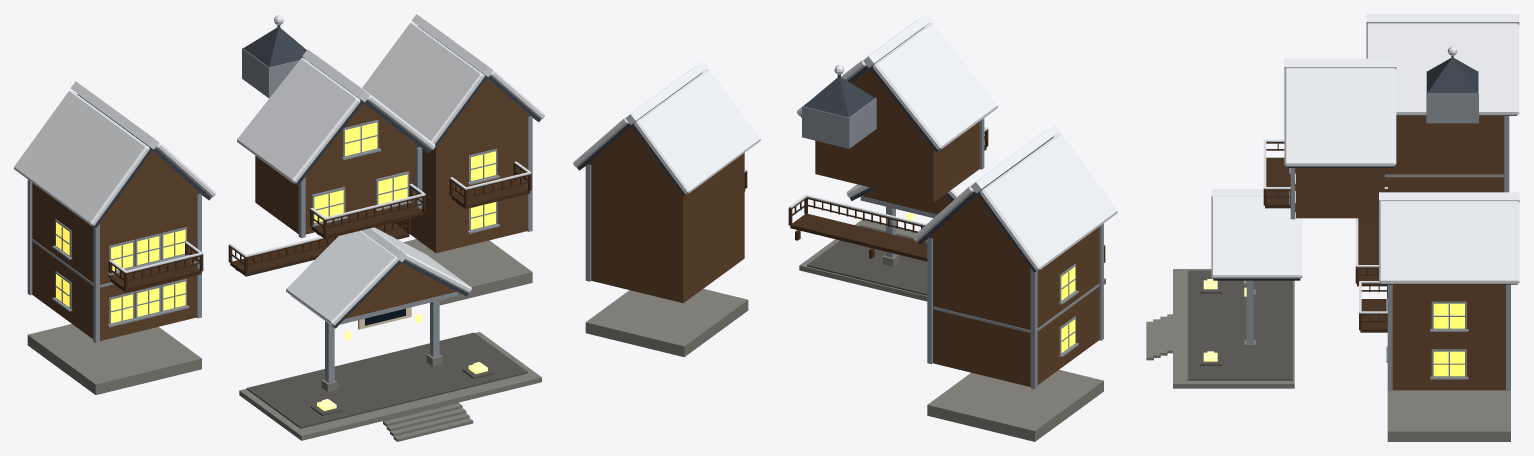
File: lodge-annex-3-aframe60s.glb
The picture shows the model from 3 angles, left to right: view 1: azimuth 30°, elevation 25°; view 2: azimuth 150°, elevation 25°; view 3: azimuth 270°, elevation 25°; orthographic projection. The views are drawn at different scales.
Parts seen in each view (by area): view 1: lodge-annex-3-aframe60s; view 2: lodge-annex-3-aframe60s; view 3: lodge-annex-3-aframe60s.
Boxes of the visible parts, left/top/right/bottom form: lodge-annex-3-aframe60s: left=14, top=14, right=544, bottom=441; lodge-annex-3-aframe60s: left=573, top=14, right=1117, bottom=441; lodge-annex-3-aframe60s: left=1146, top=14, right=1519, bottom=441.
Size of the model in its own units: 31.65 by 19.83 by 22.68.
